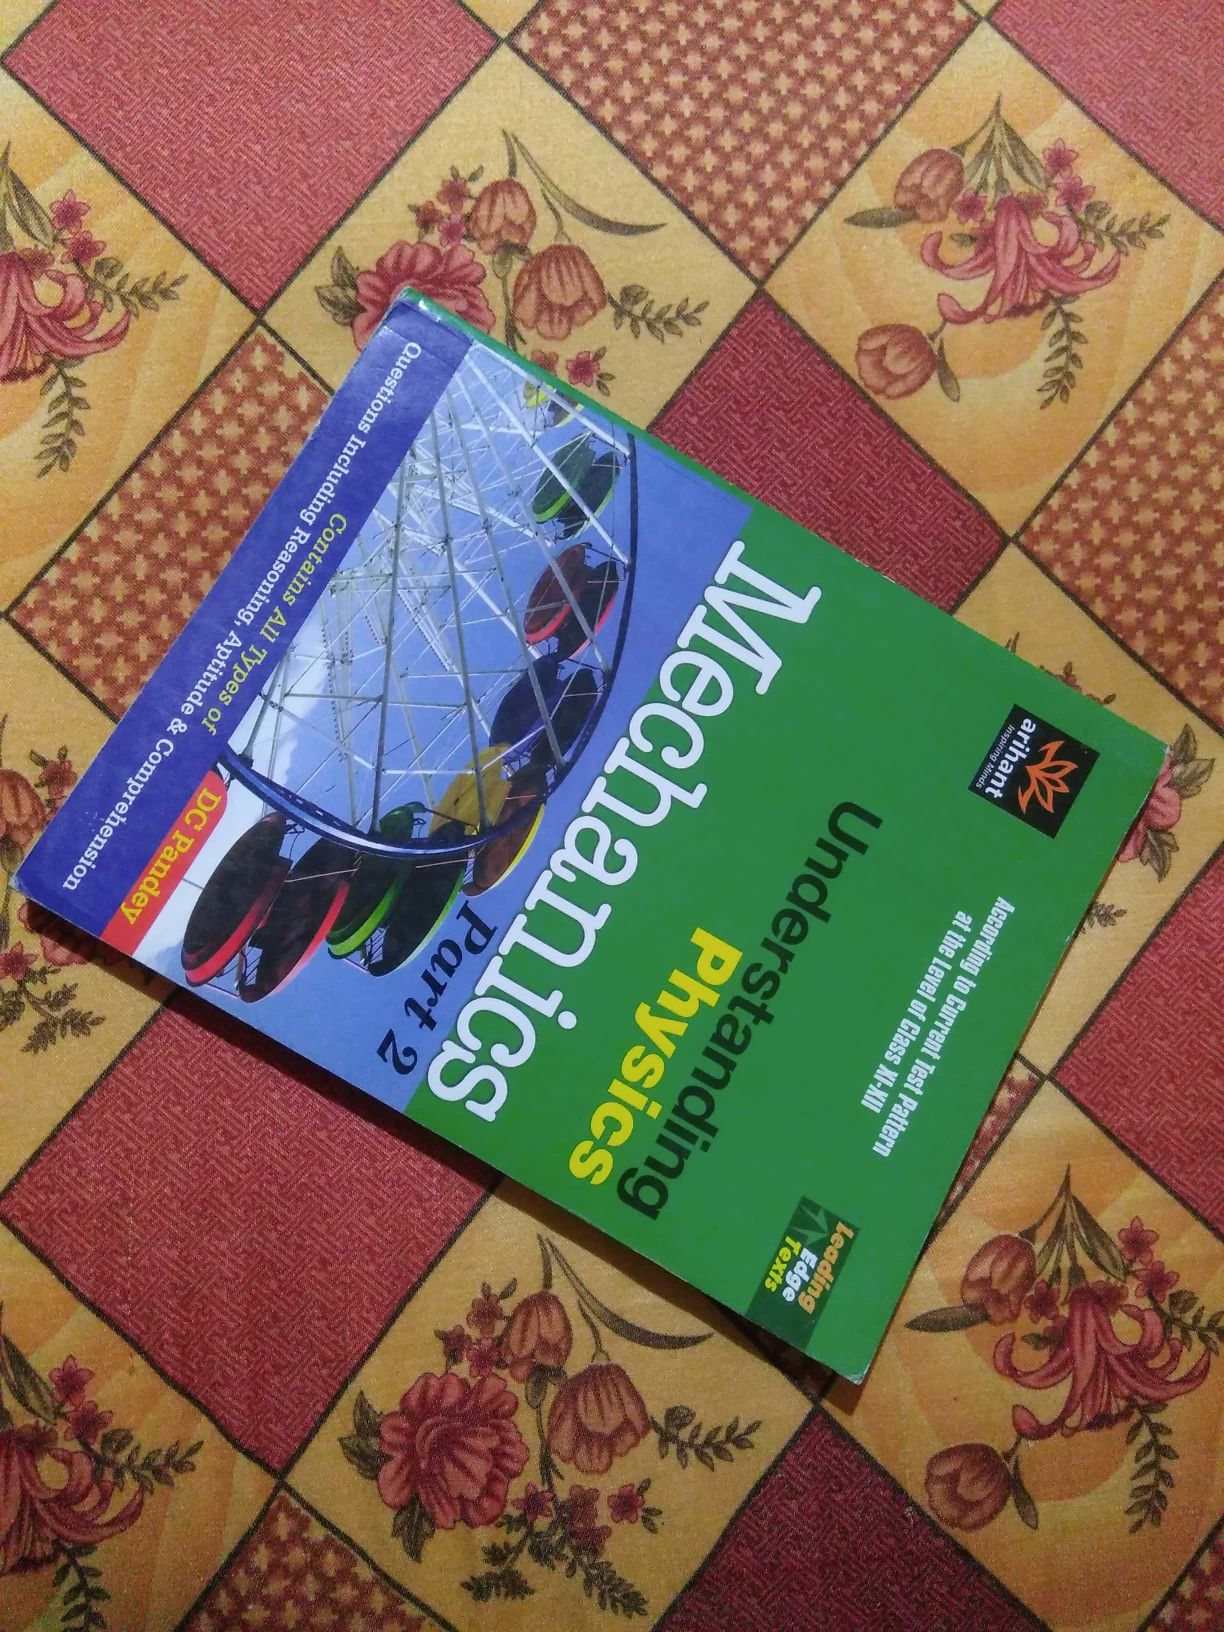mechanics: (98, 307, 1158, 1372)
